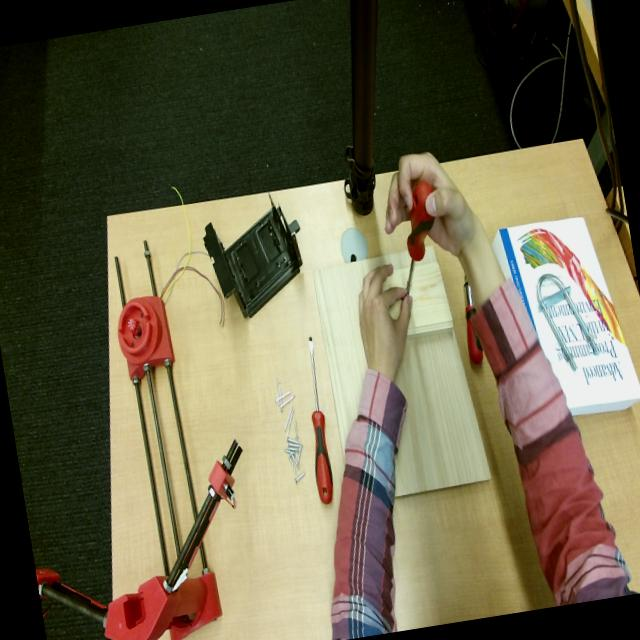screwdriver: (308, 337, 333, 504), (406, 183, 435, 295), (464, 279, 484, 365)
